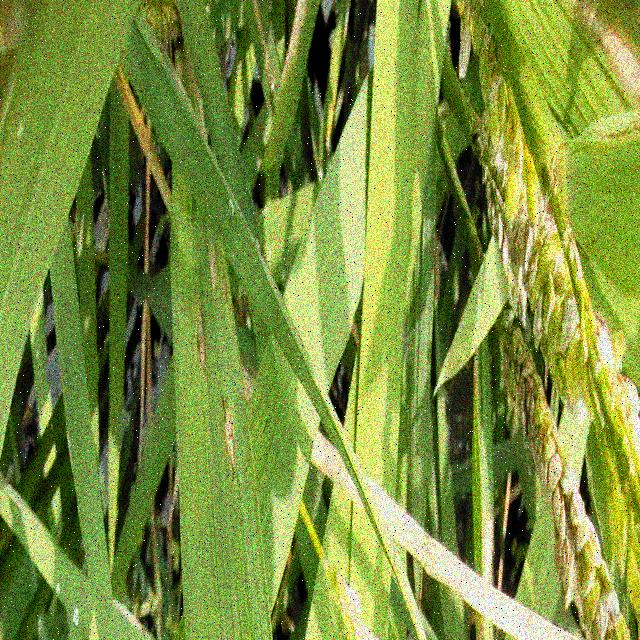LEAF BLAST: (223, 393, 235, 491), (196, 303, 207, 372)
